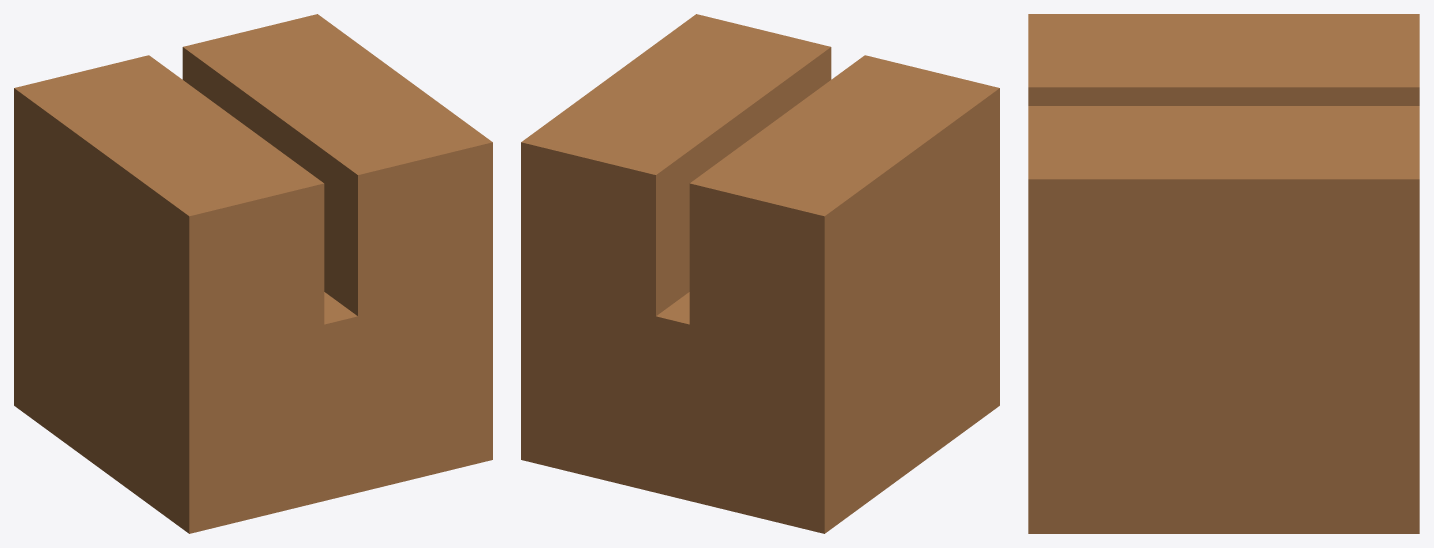
Rendered from Thin_Straight_M_Model.fbx.
The picture shows the model from 3 angles, left to right: view 1: azimuth 30°, elevation 25°; view 2: azimuth 150°, elevation 25°; view 3: azimuth 270°, elevation 25°; orthographic projection. The views are drawn at different scales.
Visible parts, largest first — view 1: Cube; view 2: Cube; view 3: Cube.
Boxes of the visible parts, x1,y1,x2,y2 form: Cube: [14, 14, 492, 533]; Cube: [521, 14, 999, 533]; Cube: [1028, 14, 1419, 533].
Bounding box in the file's own units: 100 × 100 × 100.
